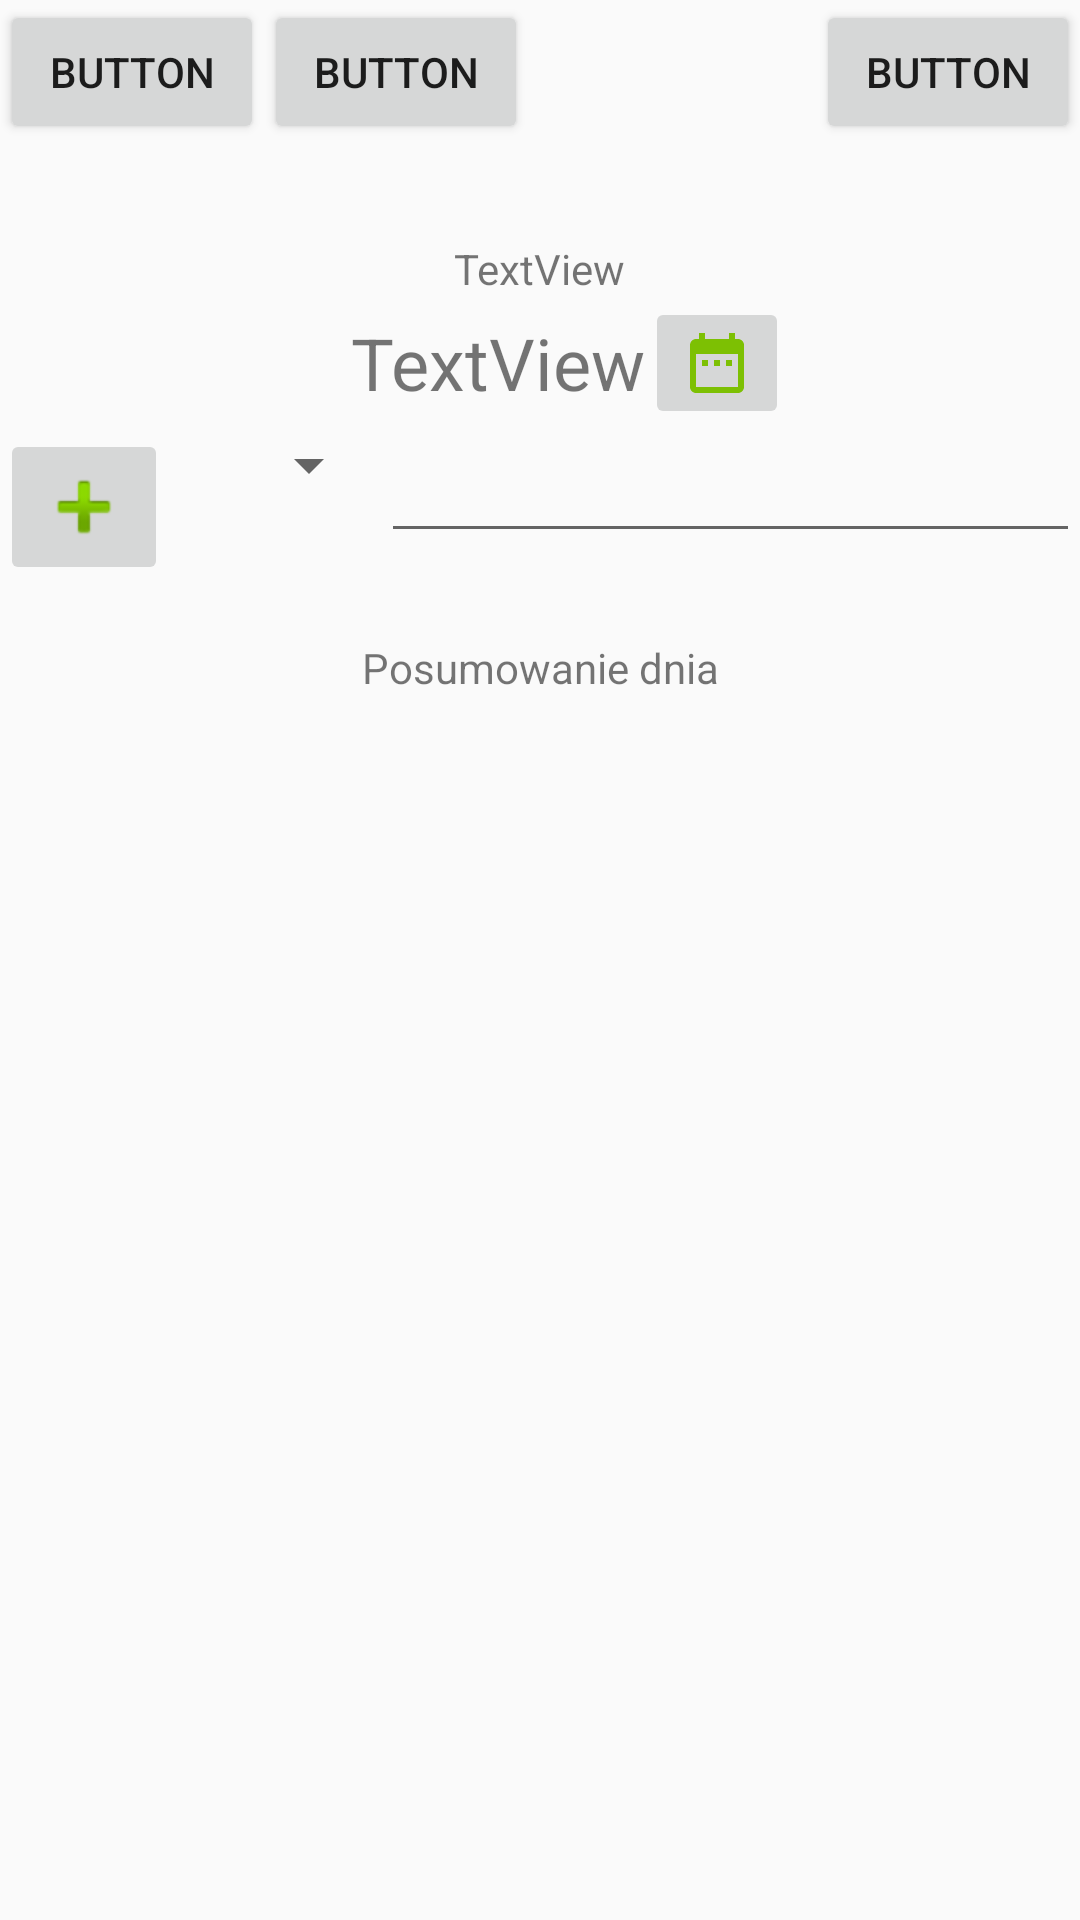

Screen size 1080 x 1920. Icon name, then its box in pixels as [x1,y1,x2,y2]:
add: [12,447,156,567]
date range: [657,315,777,411]
